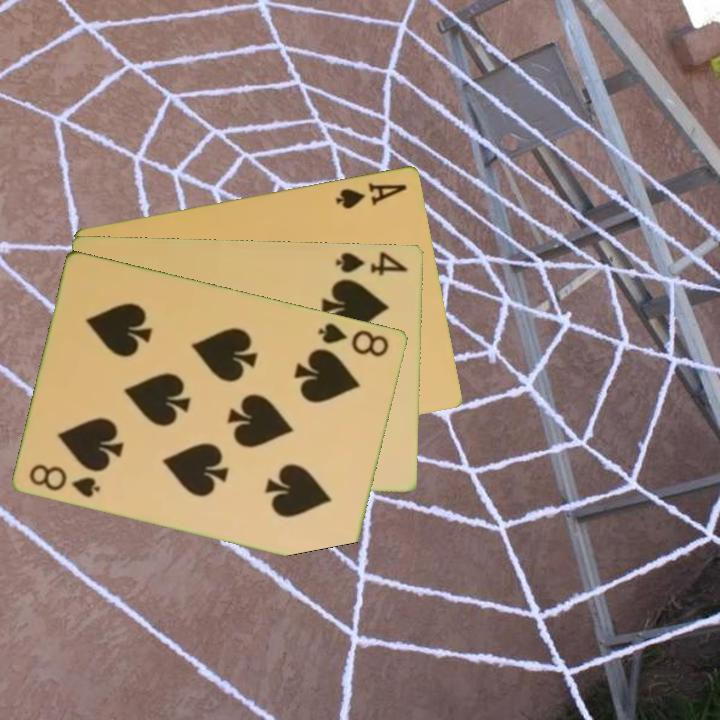4s: (332, 248, 411, 279)
8s: (315, 319, 392, 360), (26, 460, 104, 500)
As: (332, 178, 410, 212)
